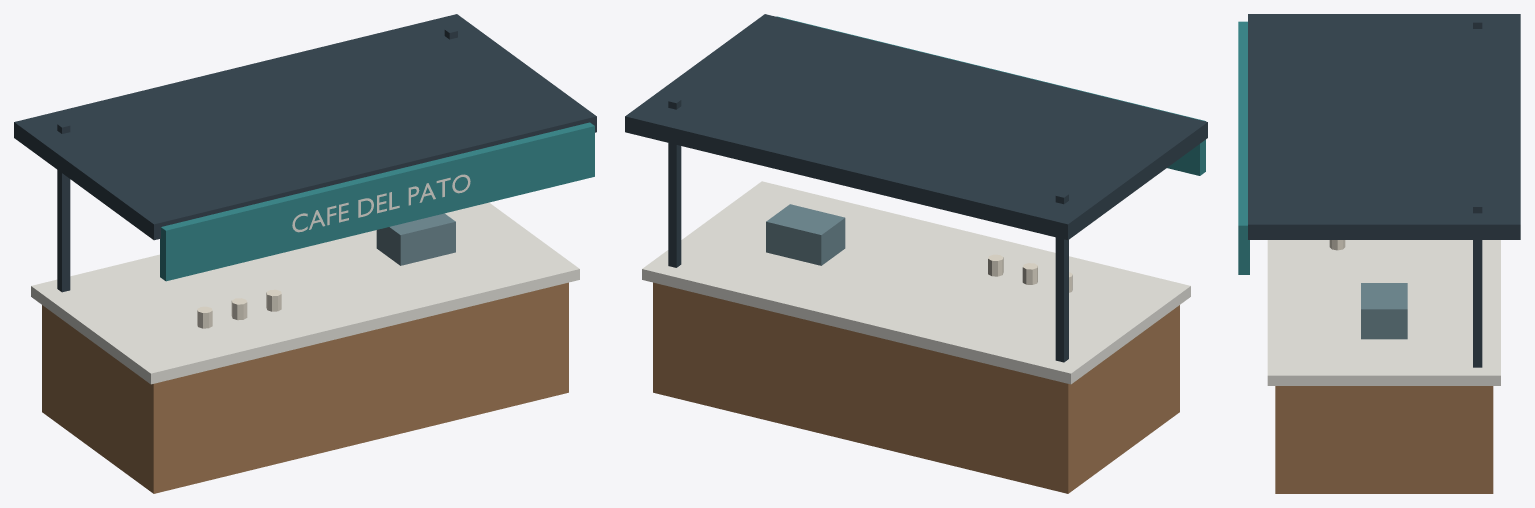
File: FoodStand.fbx
The picture shows the model from 3 angles, left to right: view 1: azimuth 30°, elevation 25°; view 2: azimuth 150°, elevation 25°; view 3: azimuth 270°, elevation 25°; orthographic projection. The views are drawn at different scales.
Parts seen in each view (by area): view 1: FoodStand.002; view 2: FoodStand.002; view 3: FoodStand.002.
Boxes of the visible parts, left/top/right/bottom form: FoodStand.002: left=14, top=14, right=596, bottom=493; FoodStand.002: left=625, top=14, right=1207, bottom=493; FoodStand.002: left=1238, top=14, right=1520, bottom=493.
Bounding box in the file's own units: 6.4 × 4 × 3.65.
